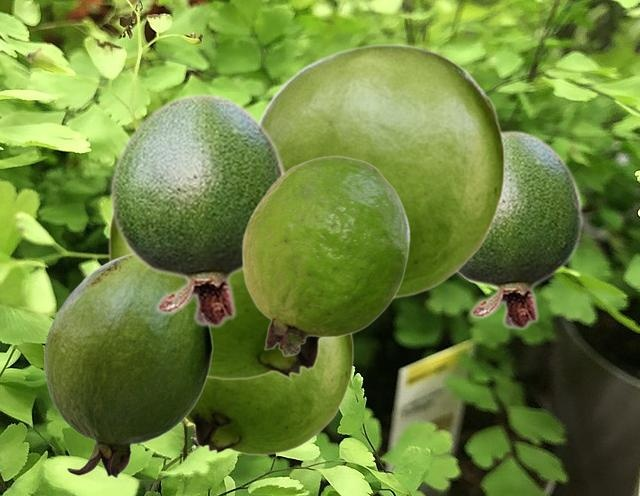guava: (258, 43, 505, 298), (109, 92, 288, 328), (44, 252, 212, 477), (107, 216, 322, 380), (241, 155, 409, 356), (456, 129, 583, 330), (185, 335, 353, 454)
